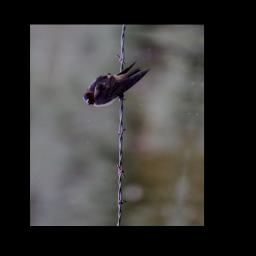Swallow: (80, 54, 152, 112)
